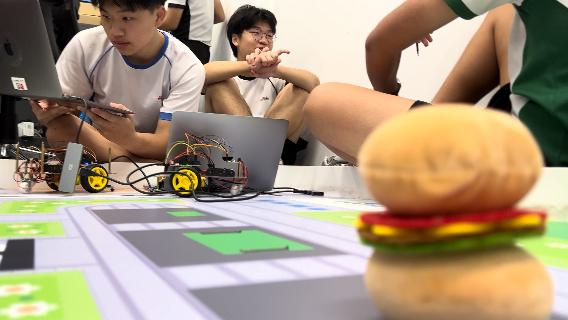burger: (354, 103, 558, 319)
